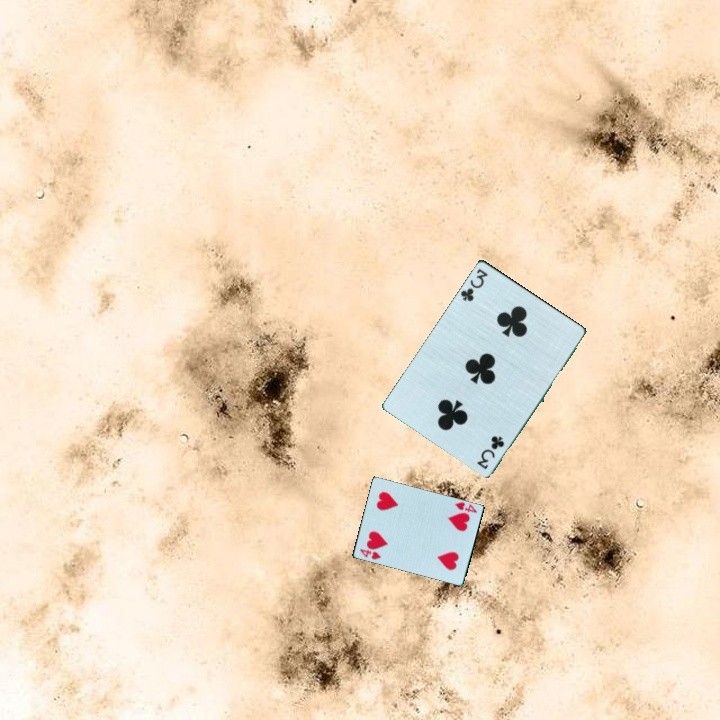3c: (457, 264, 491, 304), (475, 432, 507, 472)
4h: (451, 499, 479, 516), (356, 546, 384, 562)
